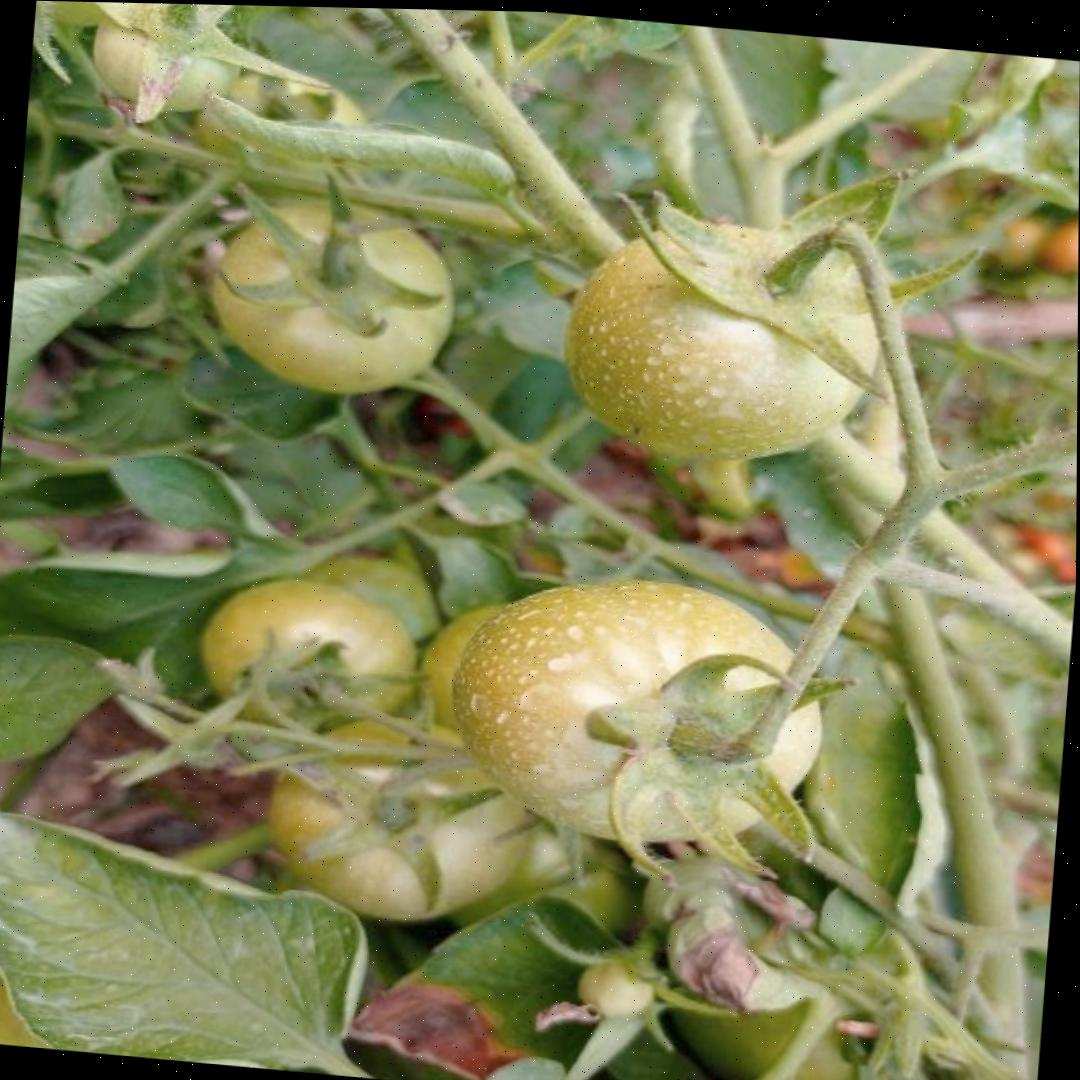mentah: (444, 560, 838, 864), (555, 205, 897, 475), (250, 700, 544, 934), (204, 190, 465, 402), (194, 566, 430, 745), (87, 2, 243, 117)
